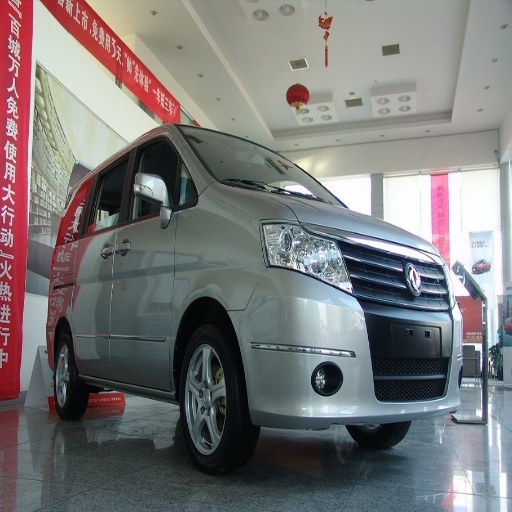front_left_door: (77, 198, 118, 370)
front_right_door: (103, 185, 172, 384)
front_right_light: (260, 191, 351, 292)
